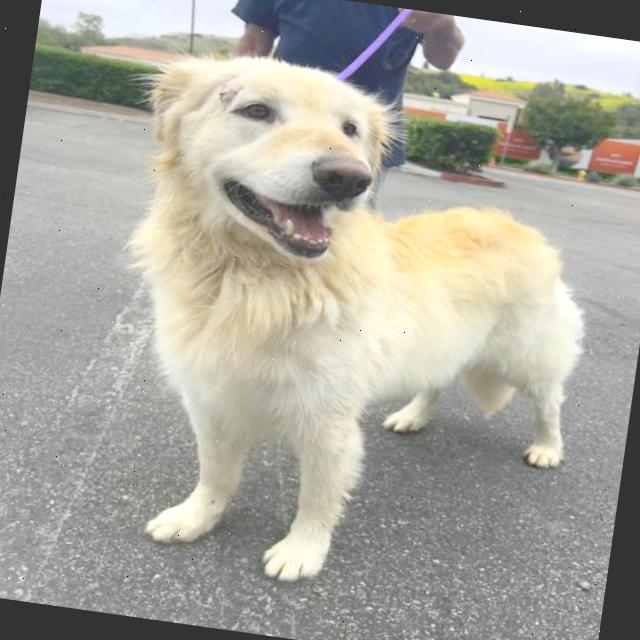golden_retriever_dog: (116, 29, 425, 288)
